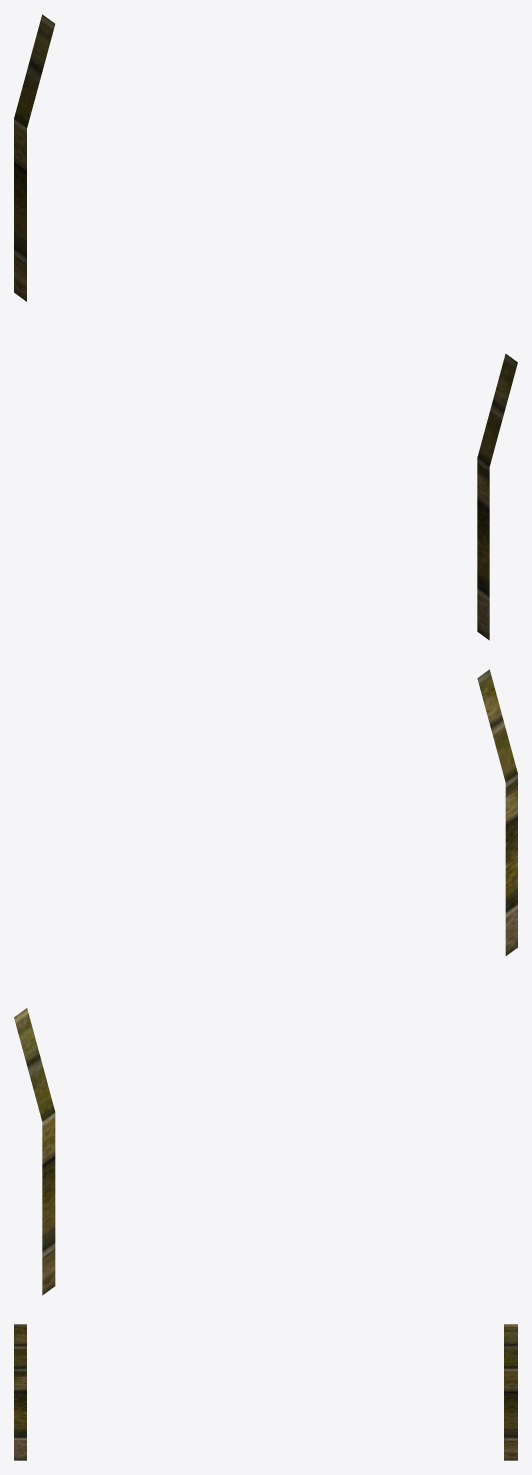
File: OVERHILL_A_01_OBJECT194.fbx
3 renders of one model, top to bottom at view 1: azimuth 30°, elevation 25°; view 2: azimuth 150°, elevation 25°; view 3: azimuth 270°, elevation 25°, orthographic. The views are drawn at different scales.
Parts seen in each view (by area): view 1: OVERHILL_A_01_OBJECT194; view 2: OVERHILL_A_01_OBJECT194; view 3: OVERHILL_A_01_OBJECT194.
Part boxes in pixels (x1,y1,x2,y2): OVERHILL_A_01_OBJECT194: (14,14,517,640); OVERHILL_A_01_OBJECT194: (14,669,517,1295); OVERHILL_A_01_OBJECT194: (14,1324,517,1460).
Size of the model in its own units: 1348 by 12361 by 39284.
Materials: 2 (2 with a texture image).
